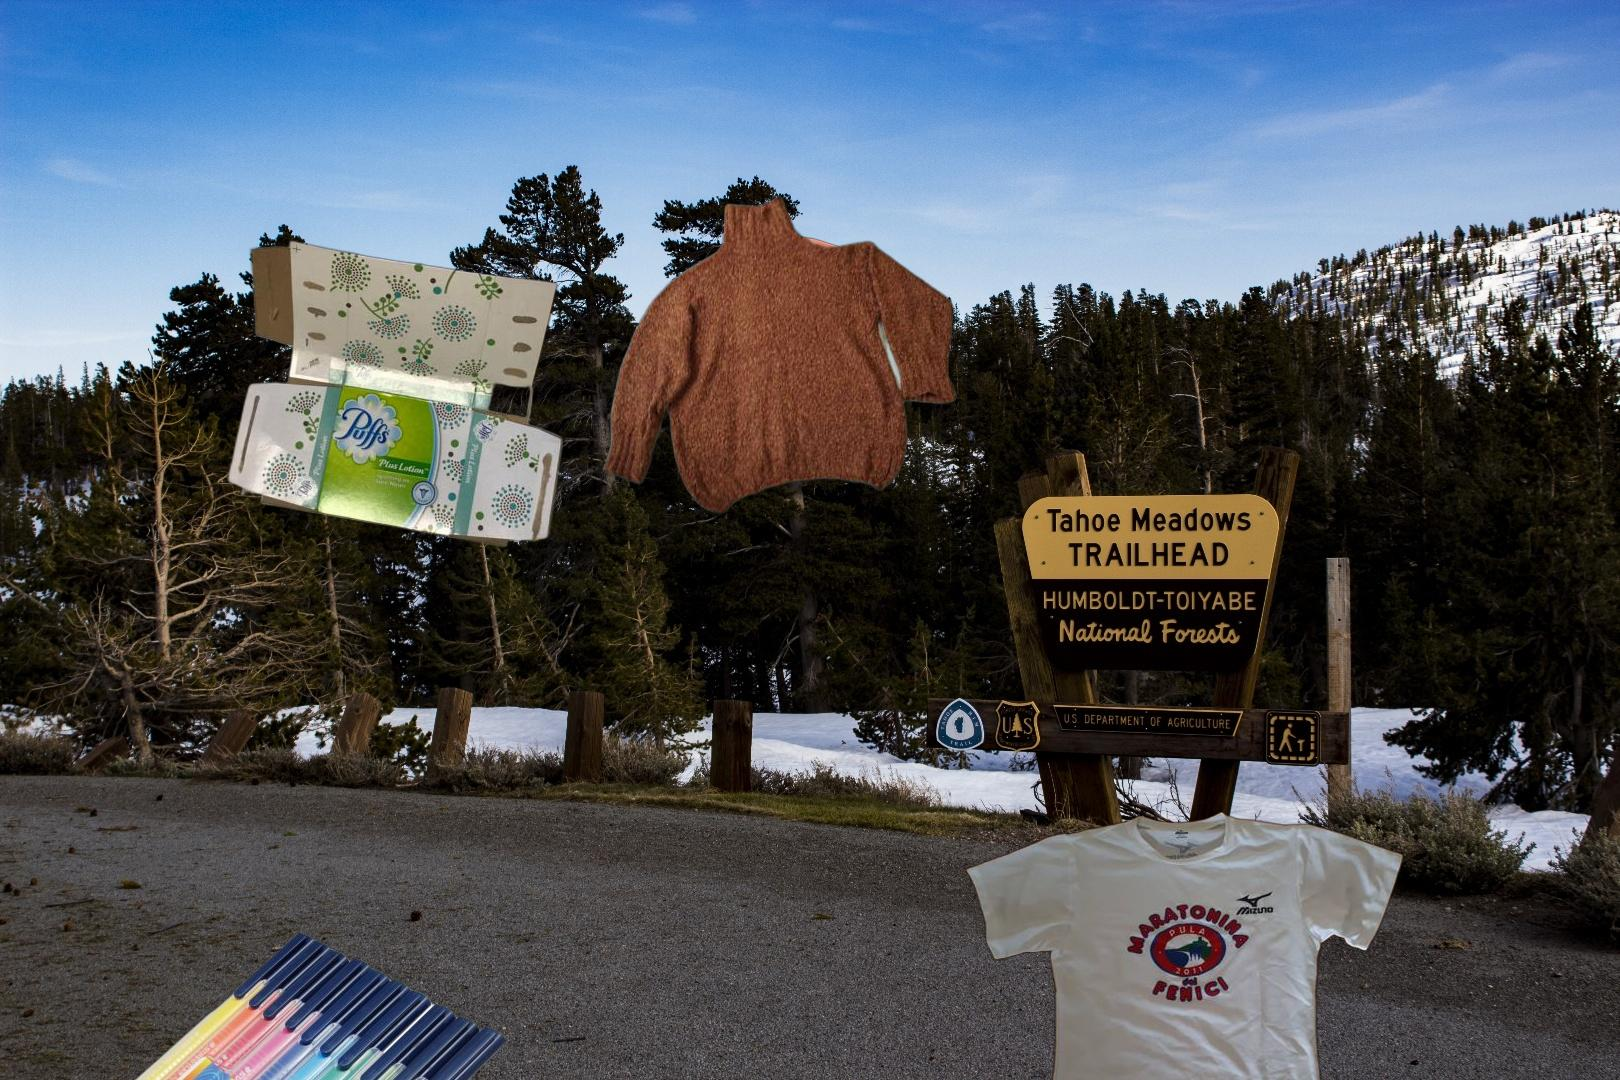clothes: (961, 808, 1409, 1080), (599, 190, 959, 517)
paper: (222, 237, 568, 550)
penholder: (19, 929, 510, 1080)
plastic-bag: (752, 163, 920, 337)
